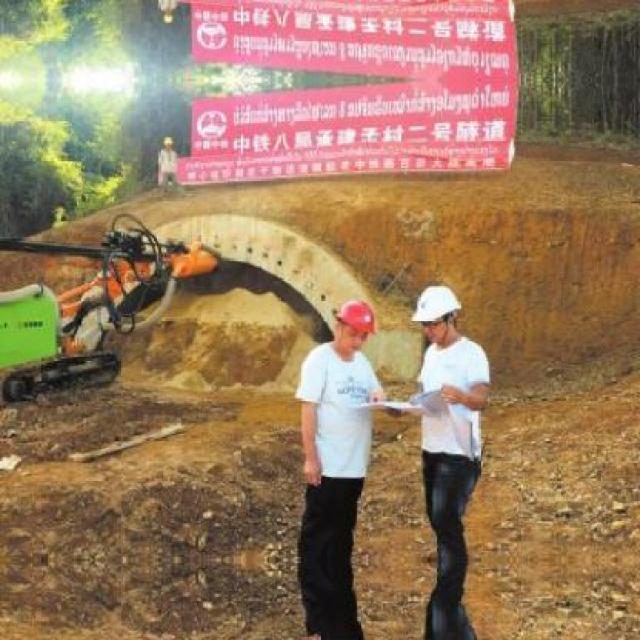helmet: (411, 282, 463, 346), (332, 298, 376, 354)
